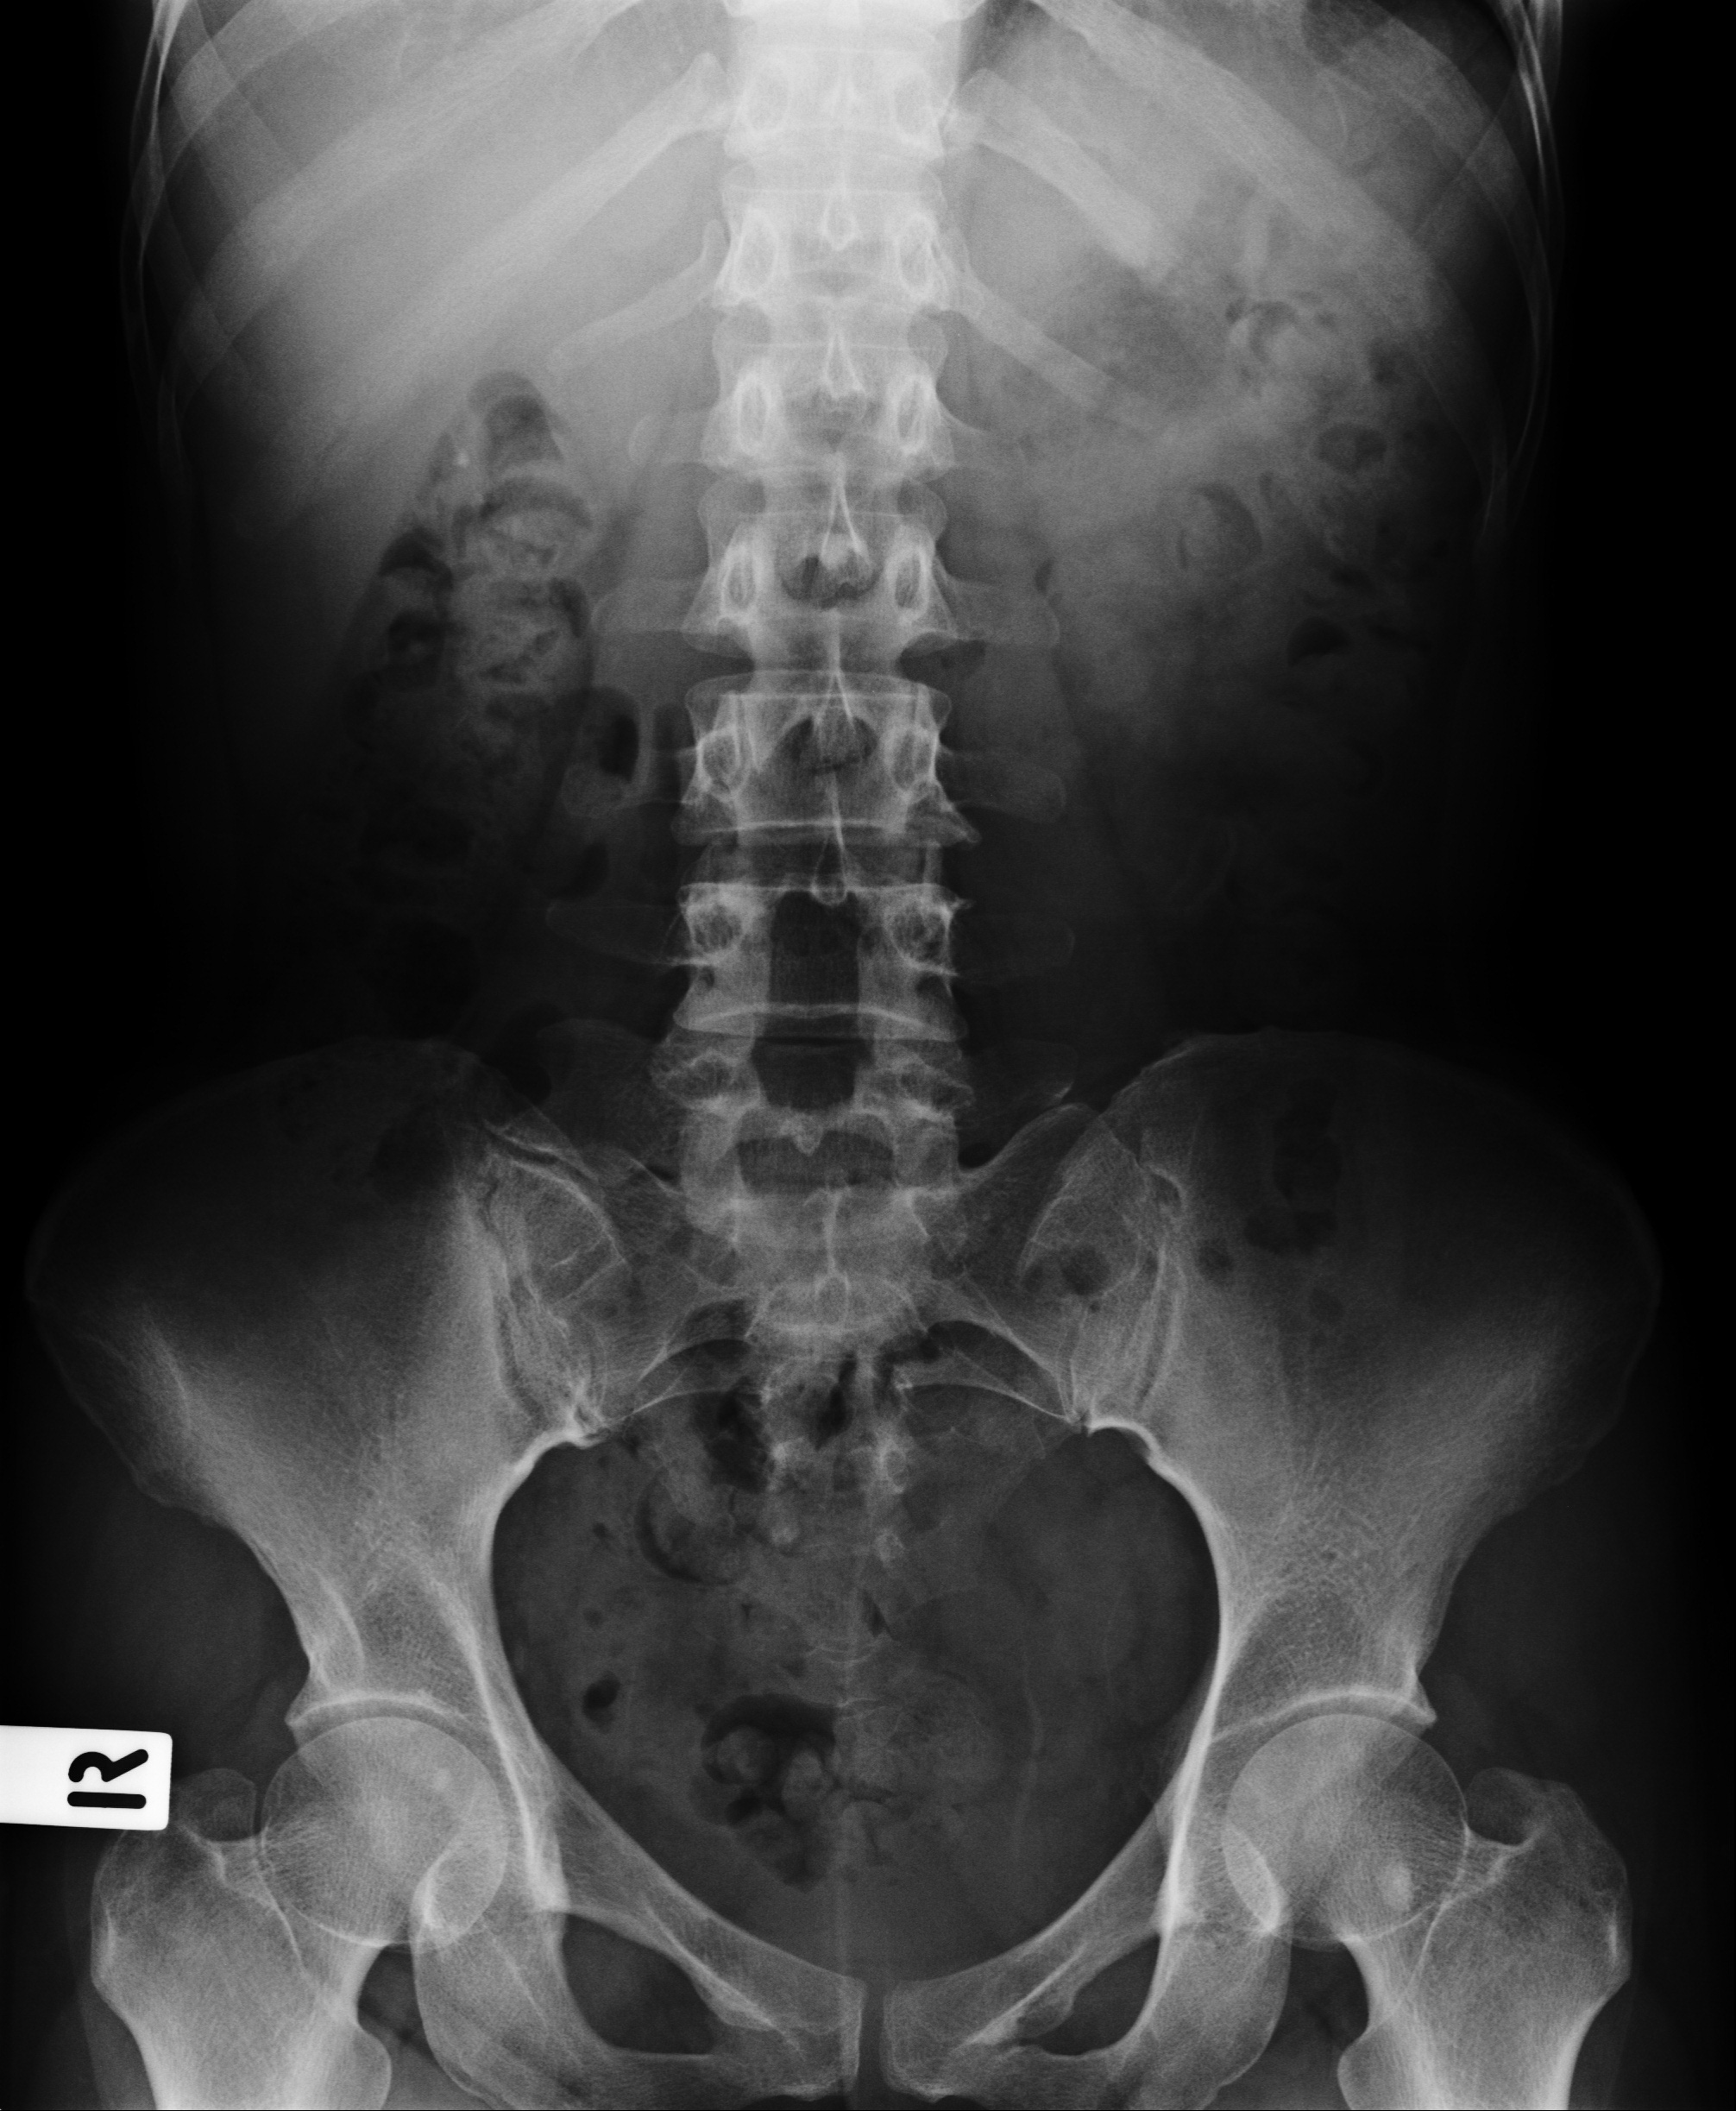lumbar scoliosis: (672, 12, 987, 1331)
